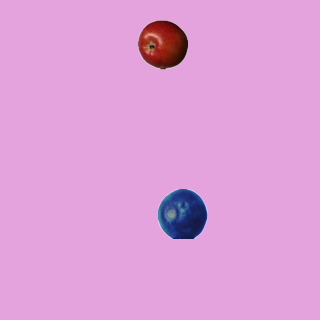Apple Braeburn: (137, 19, 187, 69)
Huckleberry: (157, 188, 207, 238)
